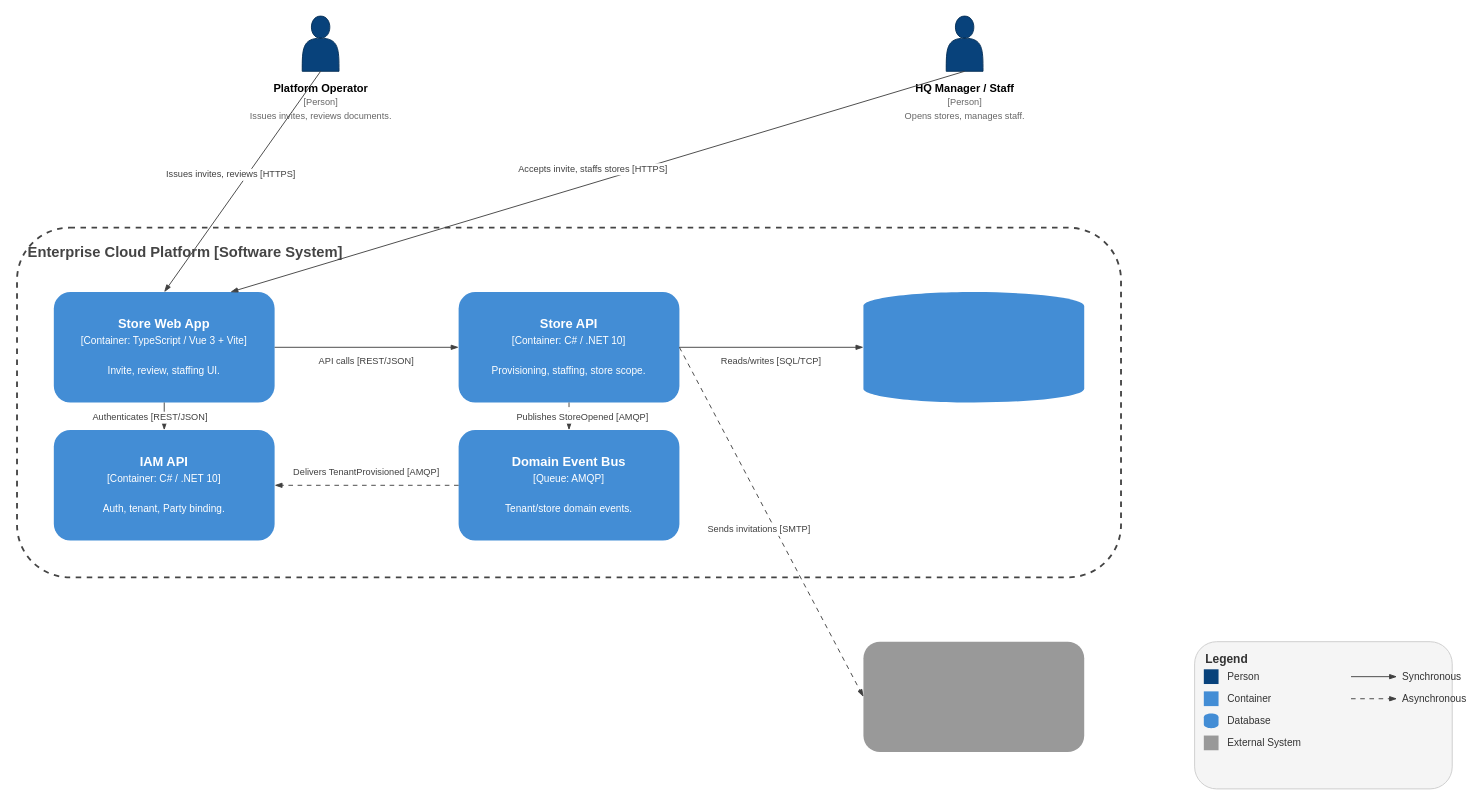
Image size: 1482x805. Some labels were removed from this diagram. The centre of each missing label's shape, as x and y in pixels:
"Email Service [External System] Invitation and review notifications." belongs at (x=973, y=696).
"Platform Database [Container: PostgreSQL] Stores, roles, tenant_id x store_id." belongs at (x=973, y=347).
